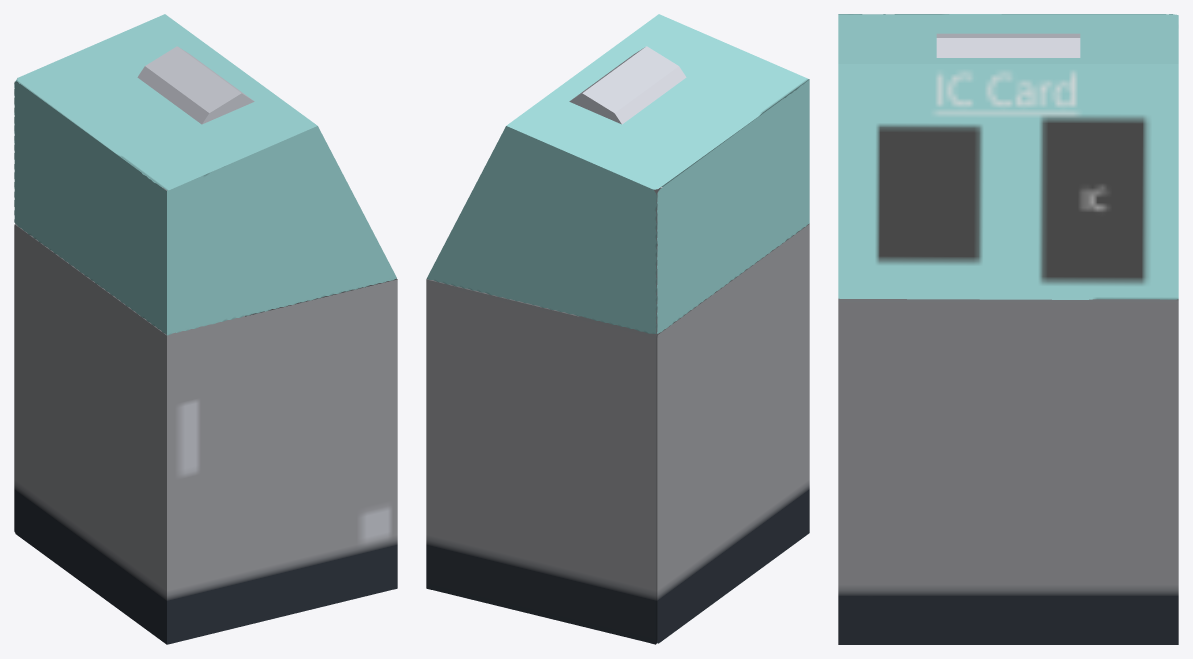
Rendered from ic_ticket_gate.obj.
3 renders of one model, left to right at view 1: azimuth 30°, elevation 25°; view 2: azimuth 150°, elevation 25°; view 3: azimuth 270°, elevation 25°, orthographic. The views are drawn at different scales.
Visible parts, largest first — view 1: IcGate_Cube; view 2: IcGate_Cube; view 3: IcGate_Cube.
Part boxes in pixels (x1,y1,x2,y2): IcGate_Cube: [14, 14, 397, 644]; IcGate_Cube: [426, 14, 809, 644]; IcGate_Cube: [838, 14, 1178, 644].
Size of the model in its own units: 0.67 by 1.36 by 0.768.
